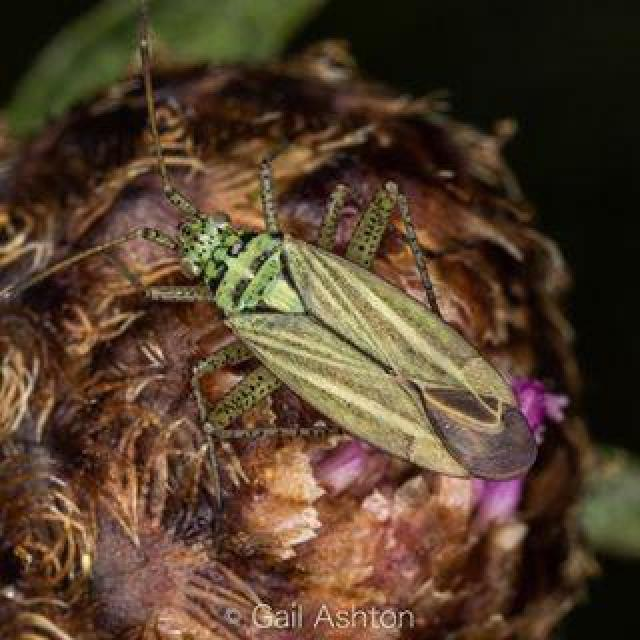Miridae-Adult-: (85, 49, 542, 505)
